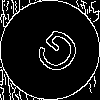G: (25, 25, 85, 86)
